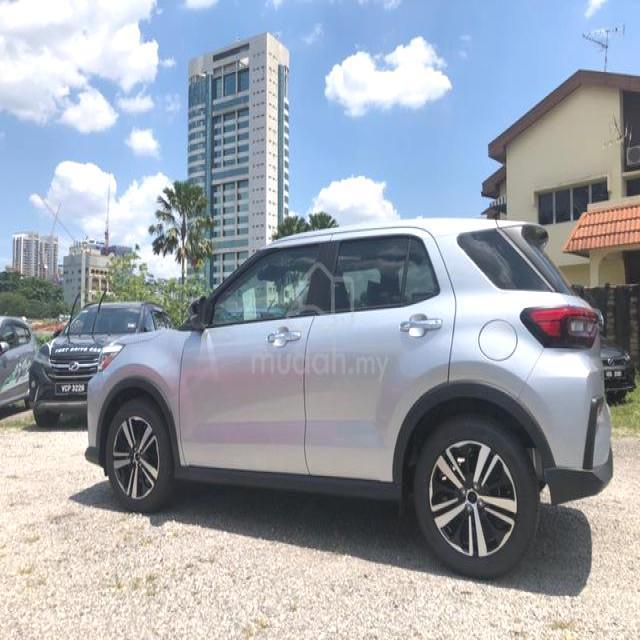PeroduaAtiva: (83, 215, 615, 579)
